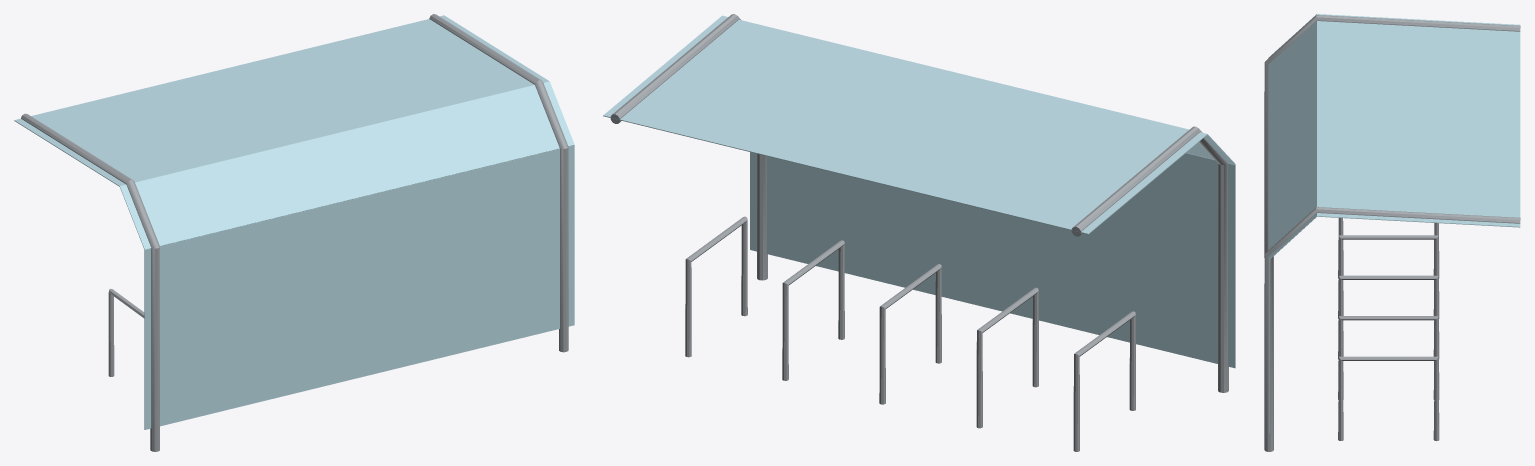
Rendered from school.play.cycle_shelter.glb.
The picture shows the model from 3 angles, left to right: view 1: azimuth 30°, elevation 25°; view 2: azimuth 150°, elevation 25°; view 3: azimuth 270°, elevation 25°; orthographic projection. The views are drawn at different scales.
Parts seen in each view (by area): view 1: main__glass, main__steel_galvanised; view 2: main__glass, main__steel_galvanised; view 3: main__glass, main__steel_galvanised.
Boxes of the visible parts, <box> form: main__glass: <box>14,15,574,429</box>; main__steel_galvanised: <box>21,14,568,451</box>; main__glass: <box>603,15,1235,368</box>; main__steel_galvanised: <box>610,14,1228,451</box>; main__glass: <box>1268,14,1520,433</box>; main__steel_galvanised: <box>1264,15,1520,451</box>.
Size of the model in its own units: 4 by 2.24 by 2.14.
